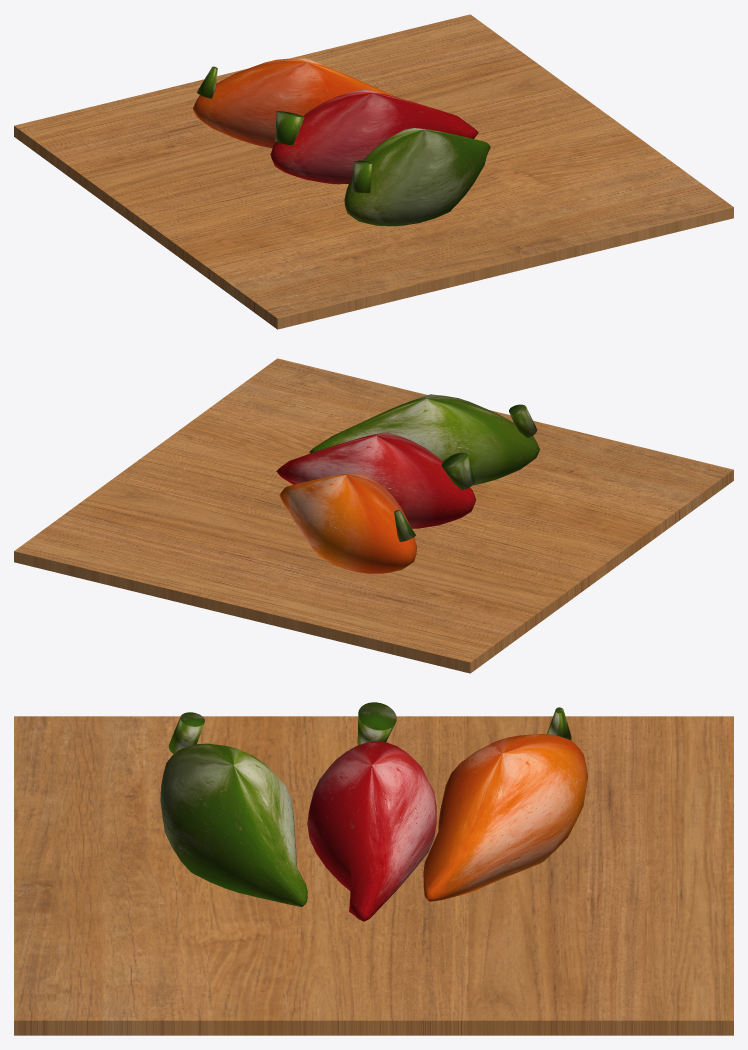
File: chile.obj
3 views of the same model, one above another, from view 1: azimuth 30°, elevation 25°; view 2: azimuth 150°, elevation 25°; view 3: azimuth 270°, elevation 25° (orthographic). The views are drawn at different scales.
Visible parts, largest first — view 1: Plane, Chile_Verde, ChileRojo, ChileHabaneroArre; view 2: Plane, ChileHabaneroArre, ChileRojo, Chile_Verde; view 3: Plane, ChileHabaneroArre, Chile_Verde, ChileRojo.
Boxes of the visible parts, <box> form: Plane: <box>14,14,733,329</box>; Chile_Verde: <box>344,128,490,226</box>; ChileRojo: <box>270,89,478,184</box>; ChileHabaneroArre: <box>193,58,398,148</box>; Plane: <box>14,358,733,673</box>; ChileHabaneroArre: <box>279,473,417,573</box>; ChileRojo: <box>276,432,476,528</box>; Chile_Verde: <box>309,394,540,485</box>; Plane: <box>14,716,733,1035</box>; ChileHabaneroArre: <box>423,707,587,901</box>; Chile_Verde: <box>160,712,307,906</box>; ChileRojo: <box>307,702,436,921</box>.
Bounding box in the file's own units: 3.9 × 0.7119 × 3.9.
